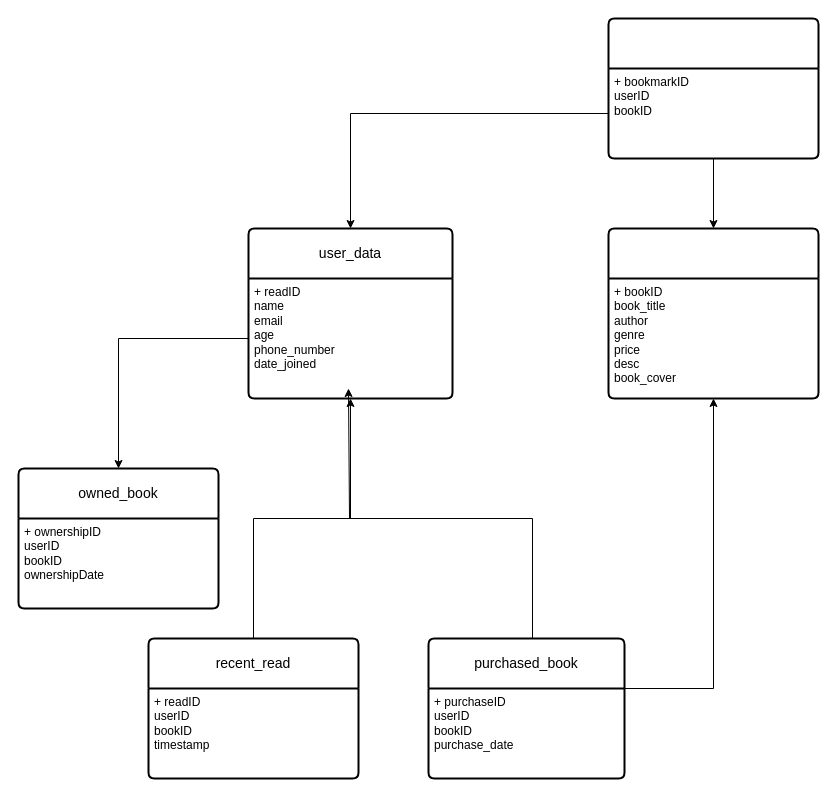
The diagram is 836 pixels wide and 796 high, and some of its shapes have lost their labels. Here are the shapes that lost their labels. From the top down, the box of each, then its label:
(607, 17, 819, 159): bookmarks
(607, 227, 819, 399): books
